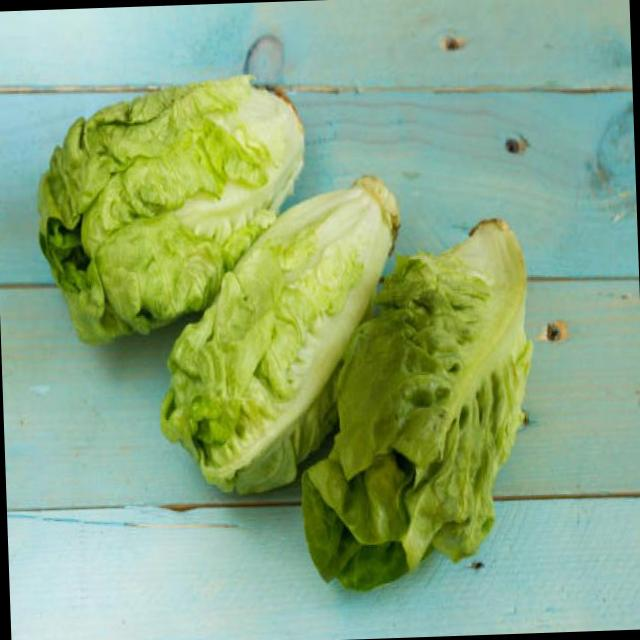Lettuce-Ready-to-Harvest: (292, 213, 542, 590), (156, 171, 414, 491), (29, 71, 314, 348)
